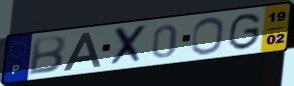0: (150, 24, 182, 60)
A: (62, 30, 103, 72)
B: (27, 34, 68, 76)
G: (227, 11, 263, 52)
O: (190, 16, 225, 56)
X: (107, 23, 150, 69)
